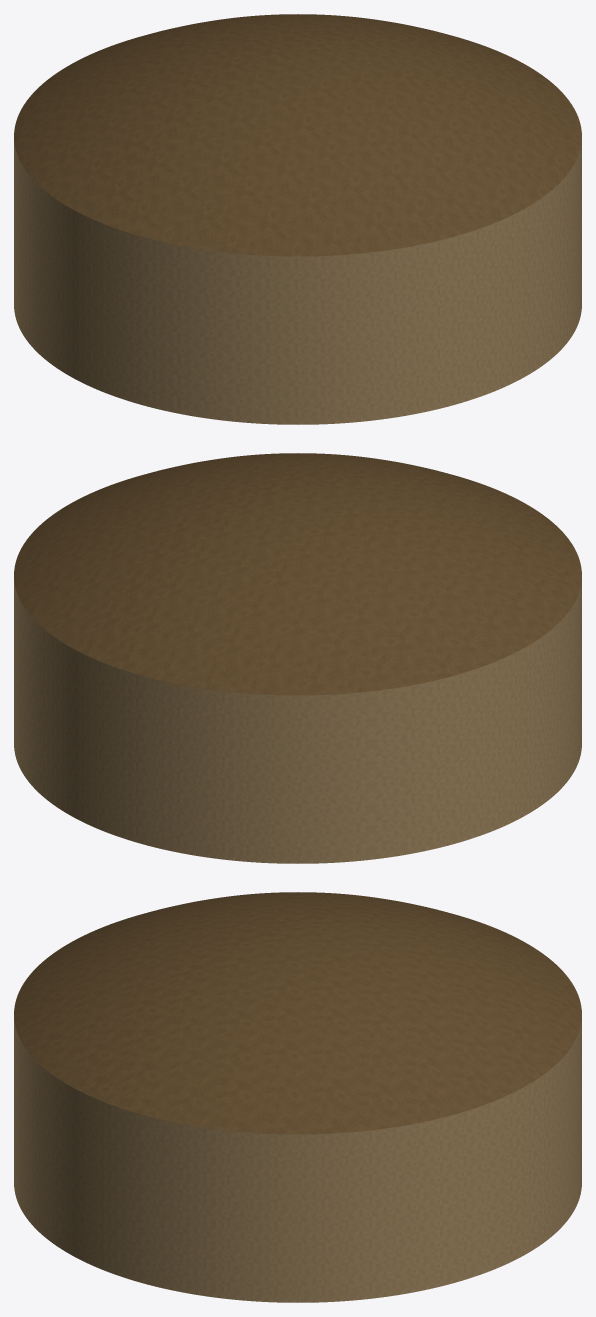
The model's file is sats-arena-imperial-gold-v1-UNCOMPRESSED.glb.
The picture shows the model from 3 angles, top to bottom: view 1: azimuth 30°, elevation 25°; view 2: azimuth 150°, elevation 25°; view 3: azimuth 270°, elevation 25°; orthographic projection.
Parts seen in each view (by area): view 1: Dome, WallShell; view 2: Dome, WallShell; view 3: Dome, WallShell.
Part boxes in pixels (box(x1,y1,x2,y2)): Dome: box(14, 14, 581, 256); WallShell: box(14, 140, 581, 424); Dome: box(14, 453, 581, 695); WallShell: box(14, 579, 581, 863); Dome: box(14, 892, 581, 1134); WallShell: box(14, 1018, 581, 1302).
Size of the model in its own units: 24 by 11.25 by 24.
Materials: 11 (6 with a texture image).
